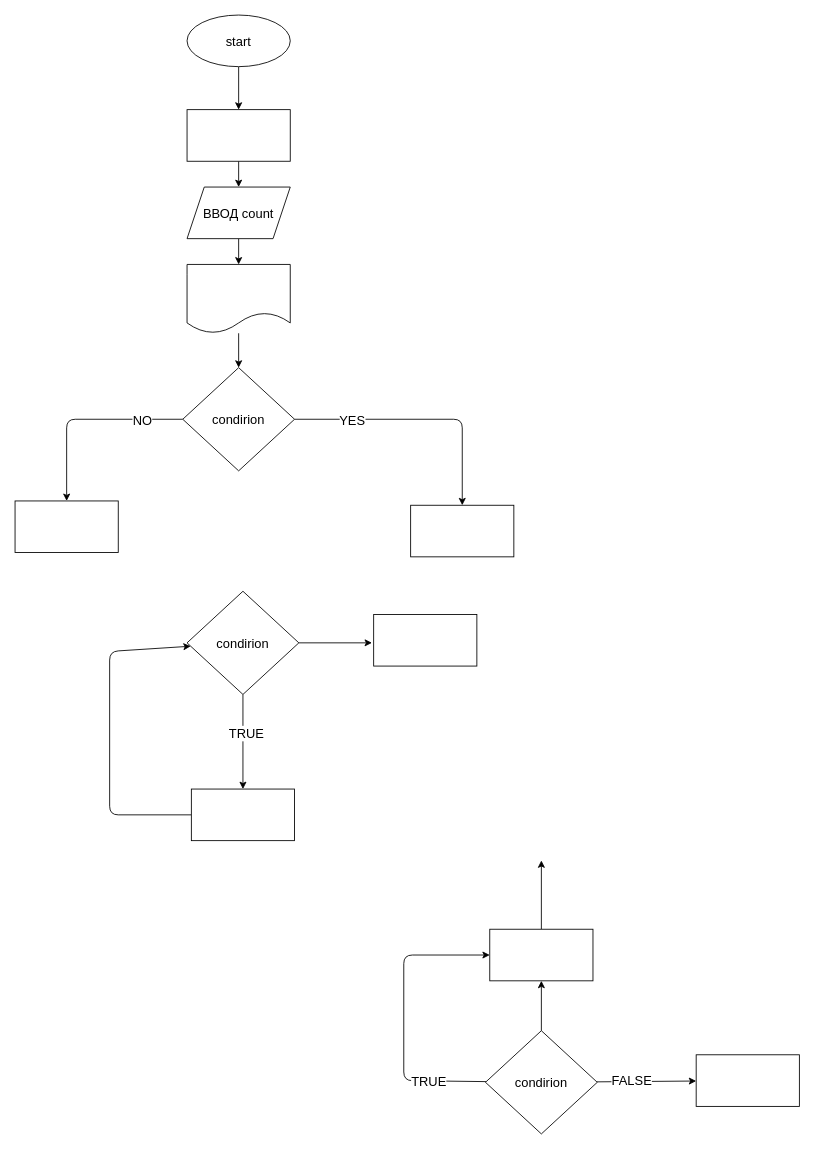
Image size: 814x1149. Some labels were removed from this diagram. The shapes that lost their labels are listed below. From the top down, each one's centre as x and y in pixels, then its label:
At [238,135]: "count = 0 ref = 1 * Sqrt(2)".
At [238,298]: "ВЫВОД res".
